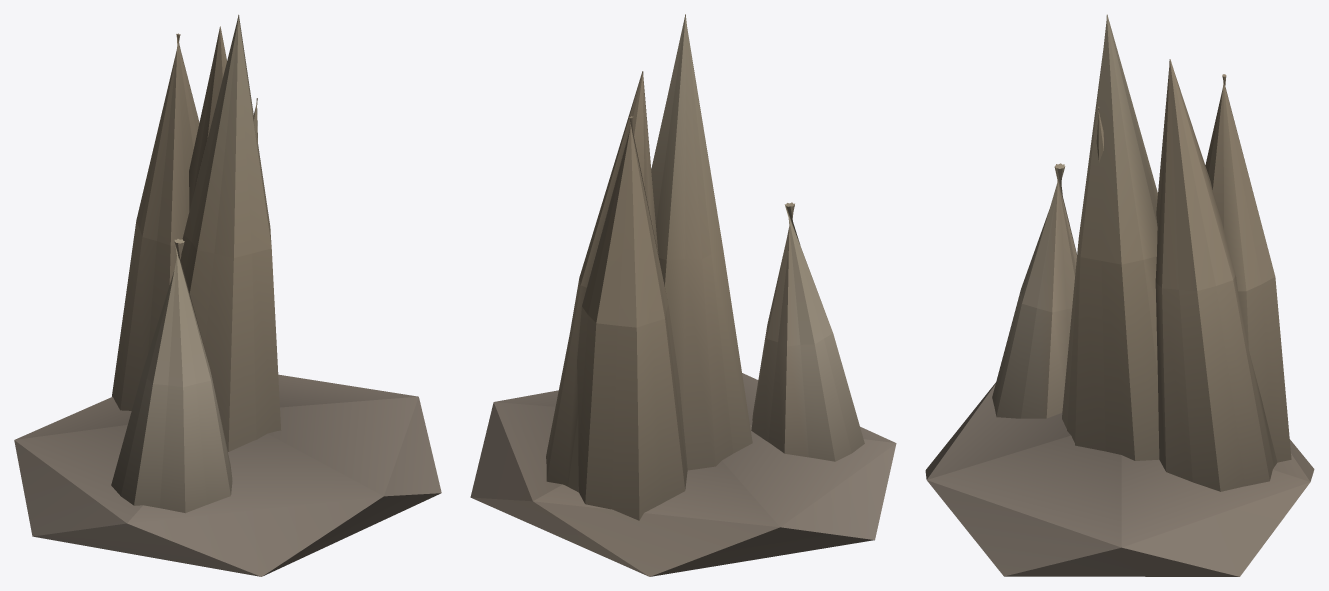
File: stalagmite_cluster_a.15f3cf63.glb
The picture shows the model from 3 angles, left to right: view 1: azimuth 30°, elevation 25°; view 2: azimuth 150°, elevation 25°; view 3: azimuth 270°, elevation 25°; orthographic projection. The views are drawn at different scales.
Visible parts, largest first — view 1: stalagmite_cluster_a; view 2: stalagmite_cluster_a; view 3: stalagmite_cluster_a.
Boxes of the visible parts, x1,y1,x2,y2 form: stalagmite_cluster_a: [14, 14, 441, 576]; stalagmite_cluster_a: [470, 14, 896, 576]; stalagmite_cluster_a: [925, 14, 1314, 576].
Bounding box in the file's own units: 1.06 × 1.34 × 0.9055.
